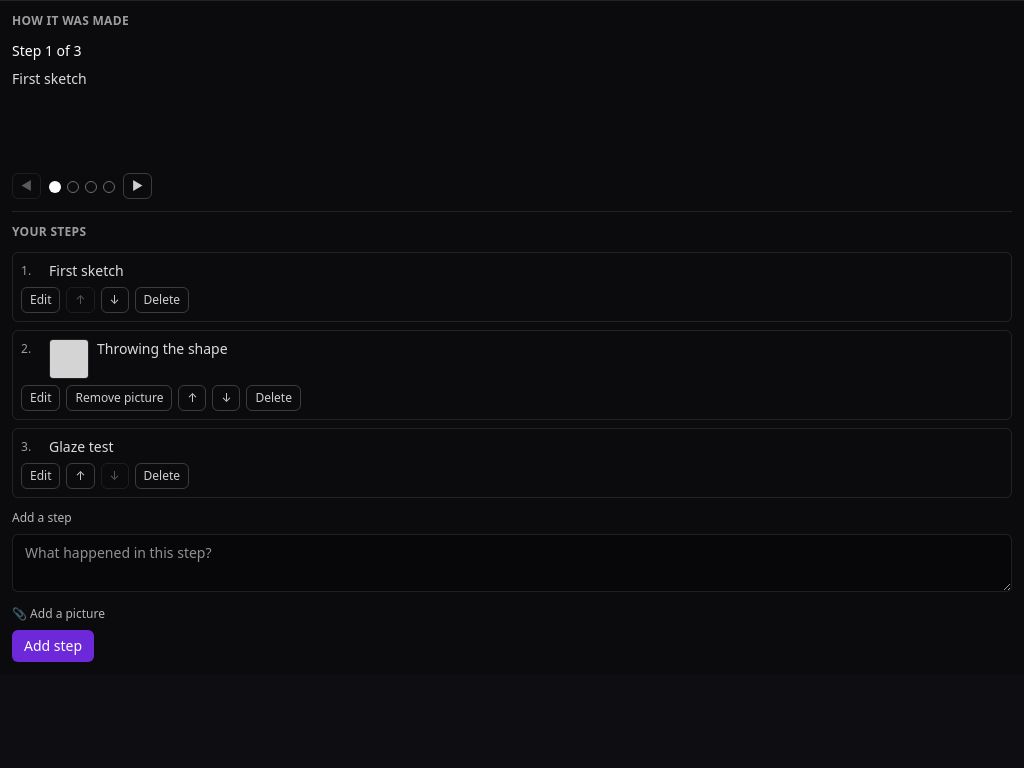
Scenario: ProcessTimeline: the owner's steps › changes a step's words
Click the button with aria-label "Edit step 1" at {"x": 41, "y": 300}, box [21,287,60,313]
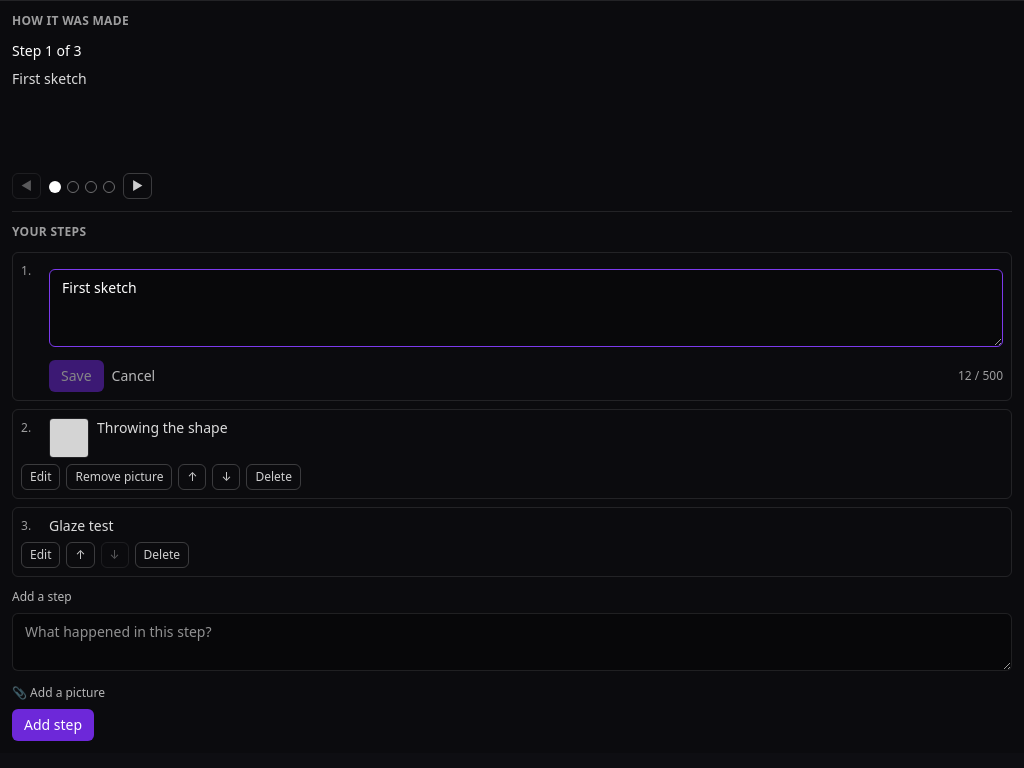
Replace the text in the text box named "Words of step 1" with "First, a sketch" at {"x": 526, "y": 308}, box [49,269,1003,347]
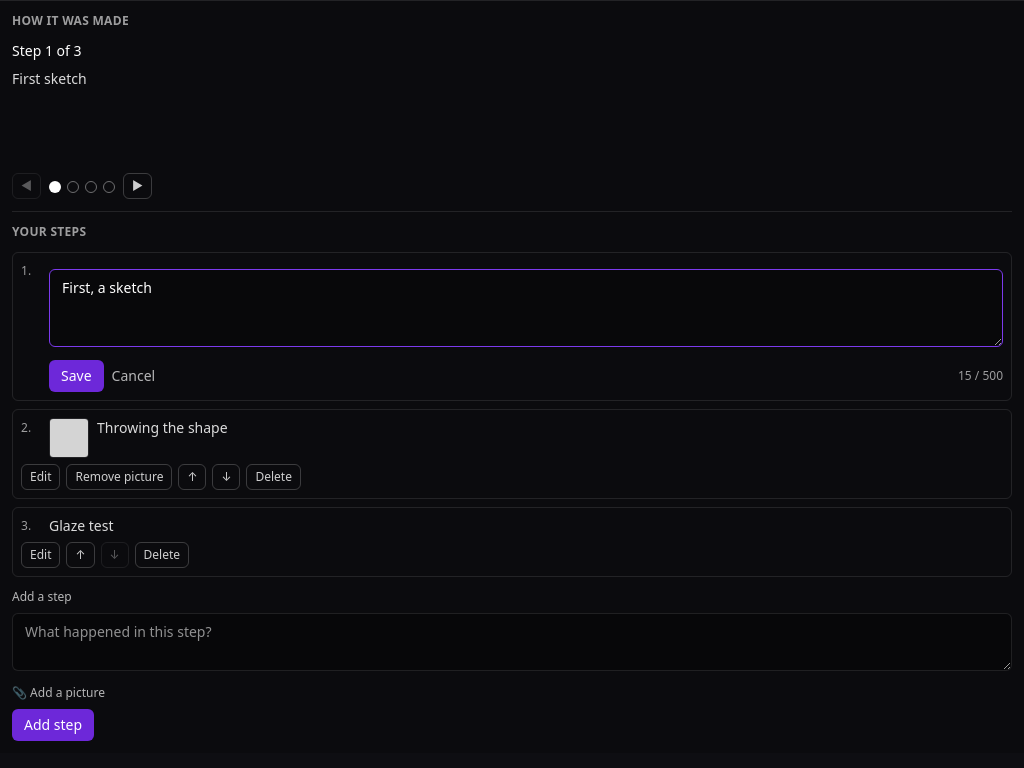
Click the button "Save" at {"x": 76, "y": 376}, box [49,360,104,392]
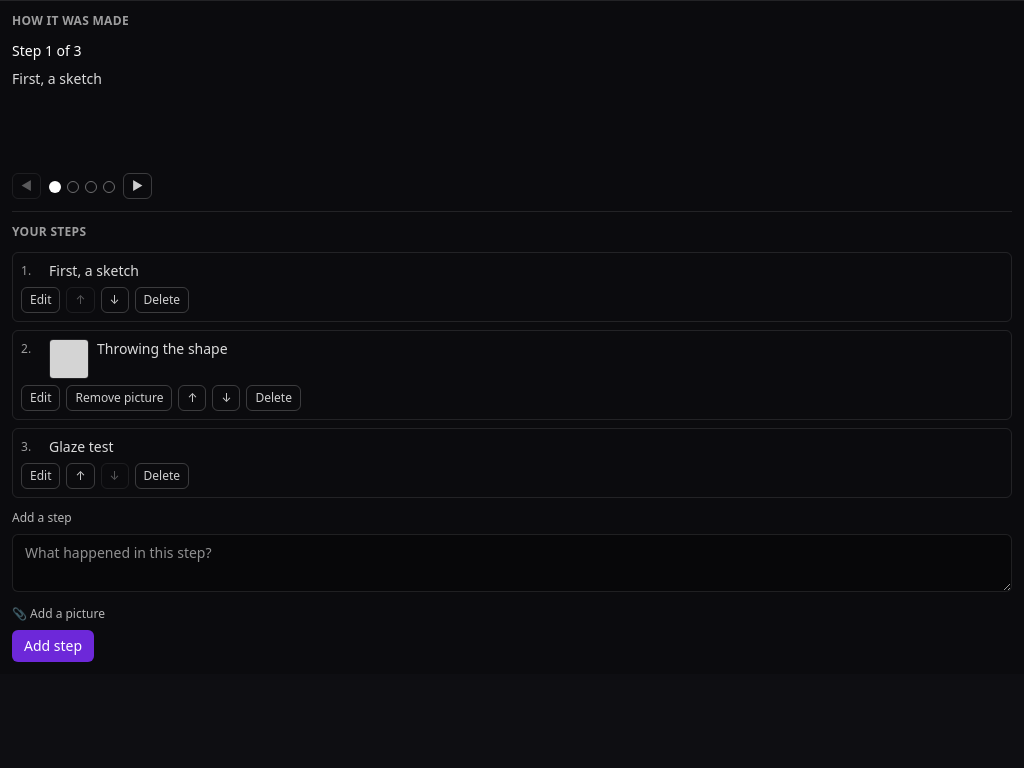
Check: the text "First, a sketch" below "Step 1 of 3" is shown, box [12,69,102,88]
